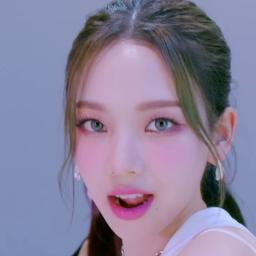winterCool: (88, 54, 190, 230)
